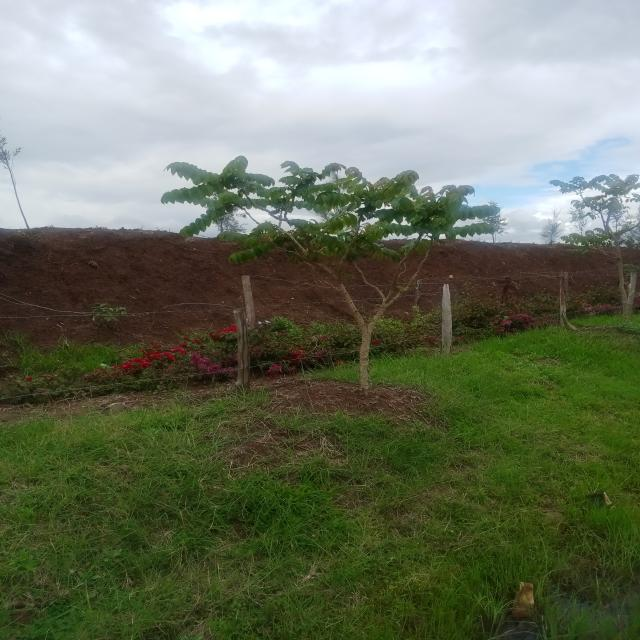Polyscias Kikuyensis: (158, 148, 496, 382), (545, 170, 640, 261)
